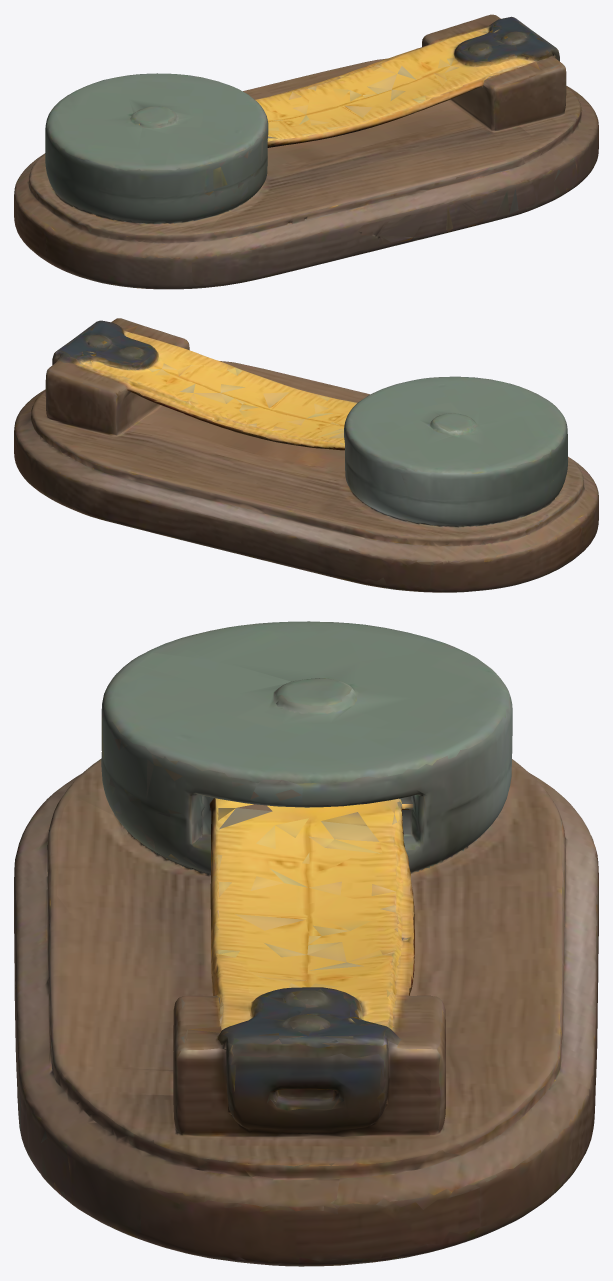
The model's file is sc-tape-rule.glb.
3 views of the same model, one above another, from view 1: azimuth 30°, elevation 25°; view 2: azimuth 150°, elevation 25°; view 3: azimuth 270°, elevation 25° (orthographic). The views are drawn at different scales.
Parts seen in each view (by area): view 1: geometry_0; view 2: geometry_0; view 3: geometry_0.
Part boxes in pixels (box(x1,y1,x2,y2)): geometry_0: box(14, 14, 598, 289); geometry_0: box(14, 318, 598, 592); geometry_0: box(14, 621, 598, 1266).
Size of the model in its own units: 1 by 0.2113 by 0.5172.
Materials: 1 (1 with a texture image).
